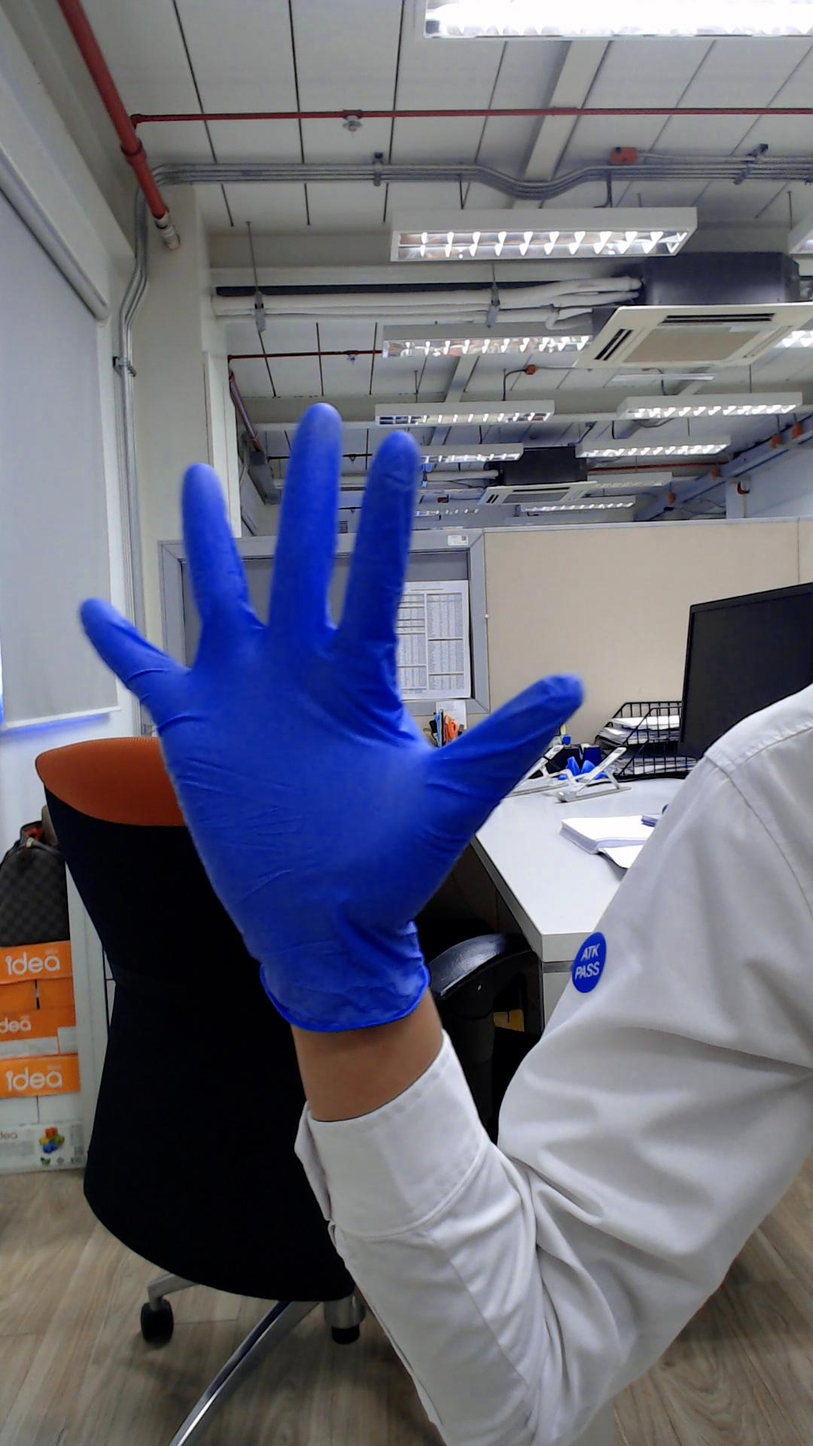gloves: (34, 372, 631, 890)
